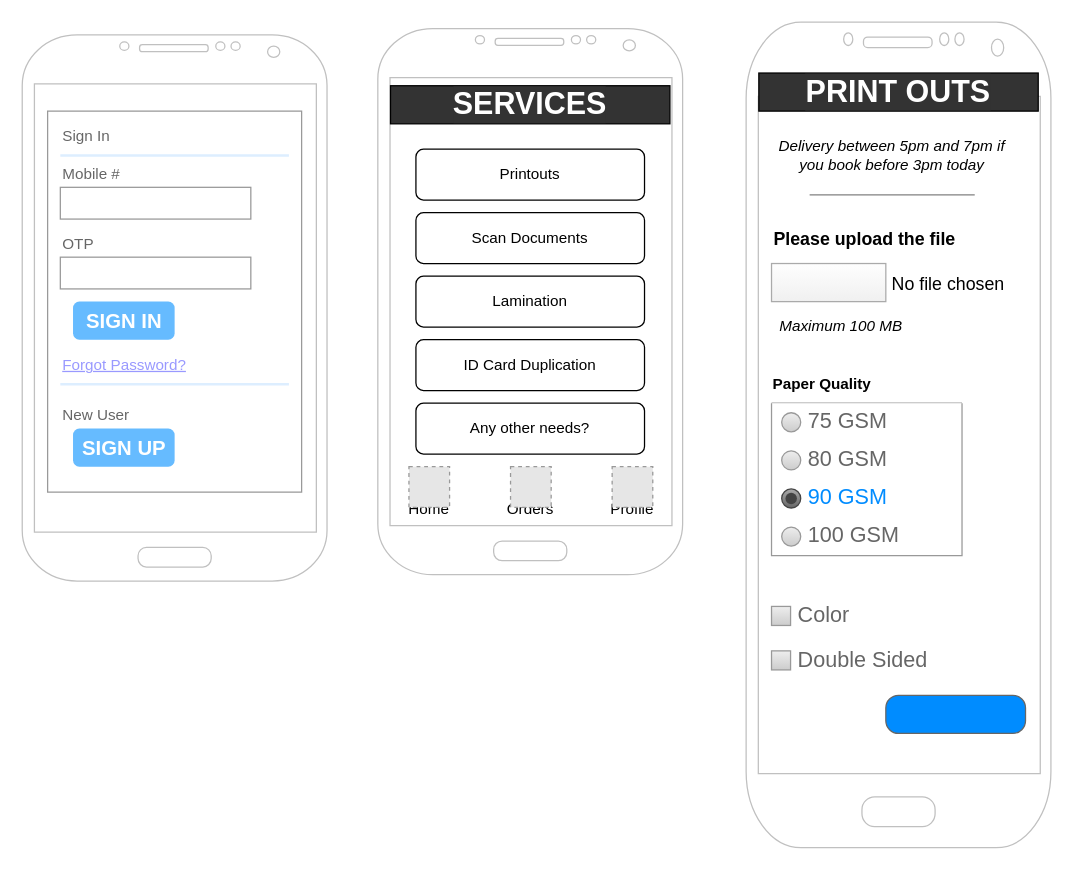
The diagram is 1073 pixels wide and 870 high, and some of its shapes have lost their labels. Grey dashed boxes stand in for pictures. Here are the shapes that lost their labels. From the top down, the centre of each, then its label:
At pixel 828 282: "Choose File".
At pixel 955 713: "Place Order".
